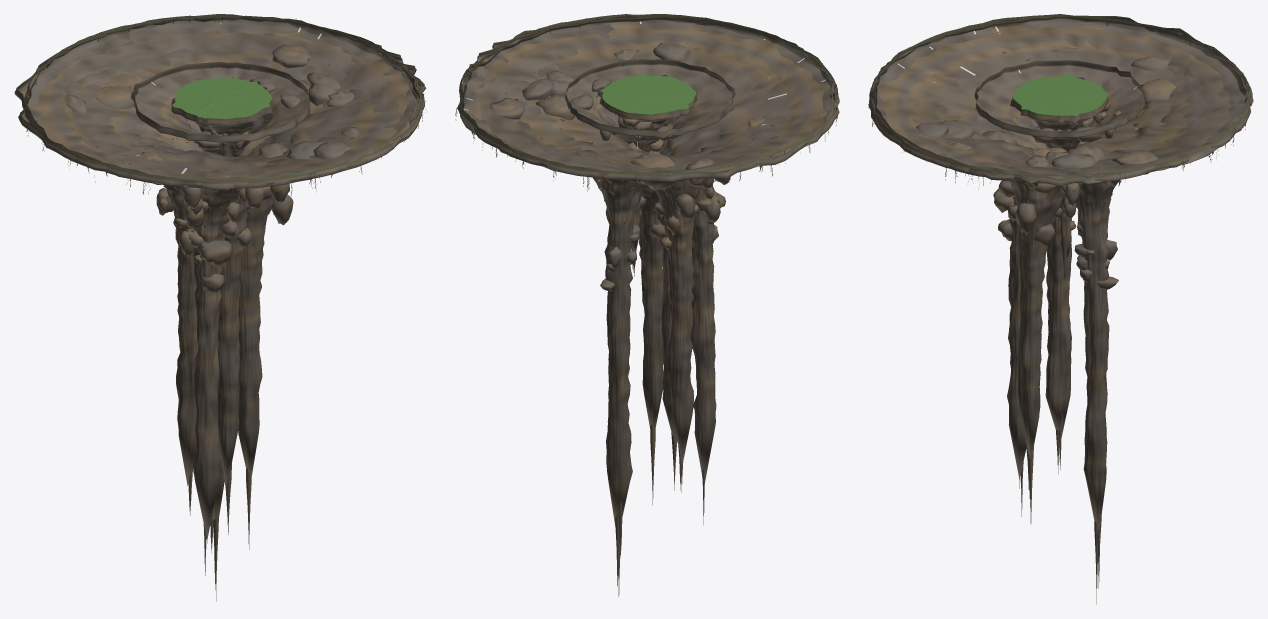
Rendered from arch_vh_island.5e439de3c0.glb.
3 views of the same model, side by side, from view 1: azimuth 30°, elevation 25°; view 2: azimuth 150°, elevation 25°; view 3: azimuth 270°, elevation 25° (orthographic). The views are drawn at different scales.
Parts seen in each view (by area): view 1: vhrock_loi_van_dao, vhrock_kinh_ngu_dai, vhrock_kinh_ho_dao, vhrock_thach_quy_dao, vhrock_tung_dai_dao, vhrock_hub, vhfake_a, vhfake_b; view 2: vhrock_kinh_ngu_dai, vhrock_loi_van_dao, vhrock_tung_dai_dao, vhrock_thach_quy_dao, vhrock_kinh_ho_dao, vhrock_hub, vhfake_a, vhfake_b, vhrock_tieu_dao; view 3: vhrock_kinh_ngu_dai, vhrock_loi_van_dao, vhrock_thach_quy_dao, vhrock_kinh_ho_dao, vhrock_tung_dai_dao, vhrock_hub, vhfake_a, vhfake_b.
Part boxes in pixels (box(x1,y1,x2,y2)): vhrock_loi_van_dao: box(26, 16, 419, 575); vhrock_kinh_ngu_dai: box(26, 15, 424, 601); vhrock_kinh_ho_dao: box(24, 15, 421, 534); vhrock_thach_quy_dao: box(14, 14, 425, 549); vhrock_tung_dai_dao: box(24, 15, 426, 515); vhrock_hub: box(131, 61, 310, 156); vhfake_a: box(171, 78, 272, 156); vhfake_b: box(174, 78, 271, 150); vhrock_kinh_ngu_dai: box(460, 14, 838, 596); vhrock_loi_van_dao: box(460, 16, 836, 525); vhrock_tung_dai_dao: box(455, 15, 839, 492); vhrock_thach_quy_dao: box(459, 14, 839, 504); vhrock_kinh_ho_dao: box(458, 14, 836, 490); vhrock_hub: box(565, 59, 735, 276); vhfake_a: box(599, 76, 697, 128); vhfake_b: box(601, 74, 696, 128); vhrock_tieu_dao: box(595, 75, 680, 152); vhrock_kinh_ngu_dai: box(872, 15, 1250, 604); vhrock_loi_van_dao: box(874, 14, 1253, 516); vhrock_thach_quy_dao: box(870, 14, 1252, 524); vhrock_kinh_ho_dao: box(868, 15, 1250, 498); vhrock_tung_dai_dao: box(868, 15, 1248, 474); vhrock_hub: box(974, 60, 1145, 285); vhfake_a: box(1012, 74, 1108, 130); vhfake_b: box(1015, 77, 1110, 130).
Size of the model in its own units: 471 by 663 by 459.
